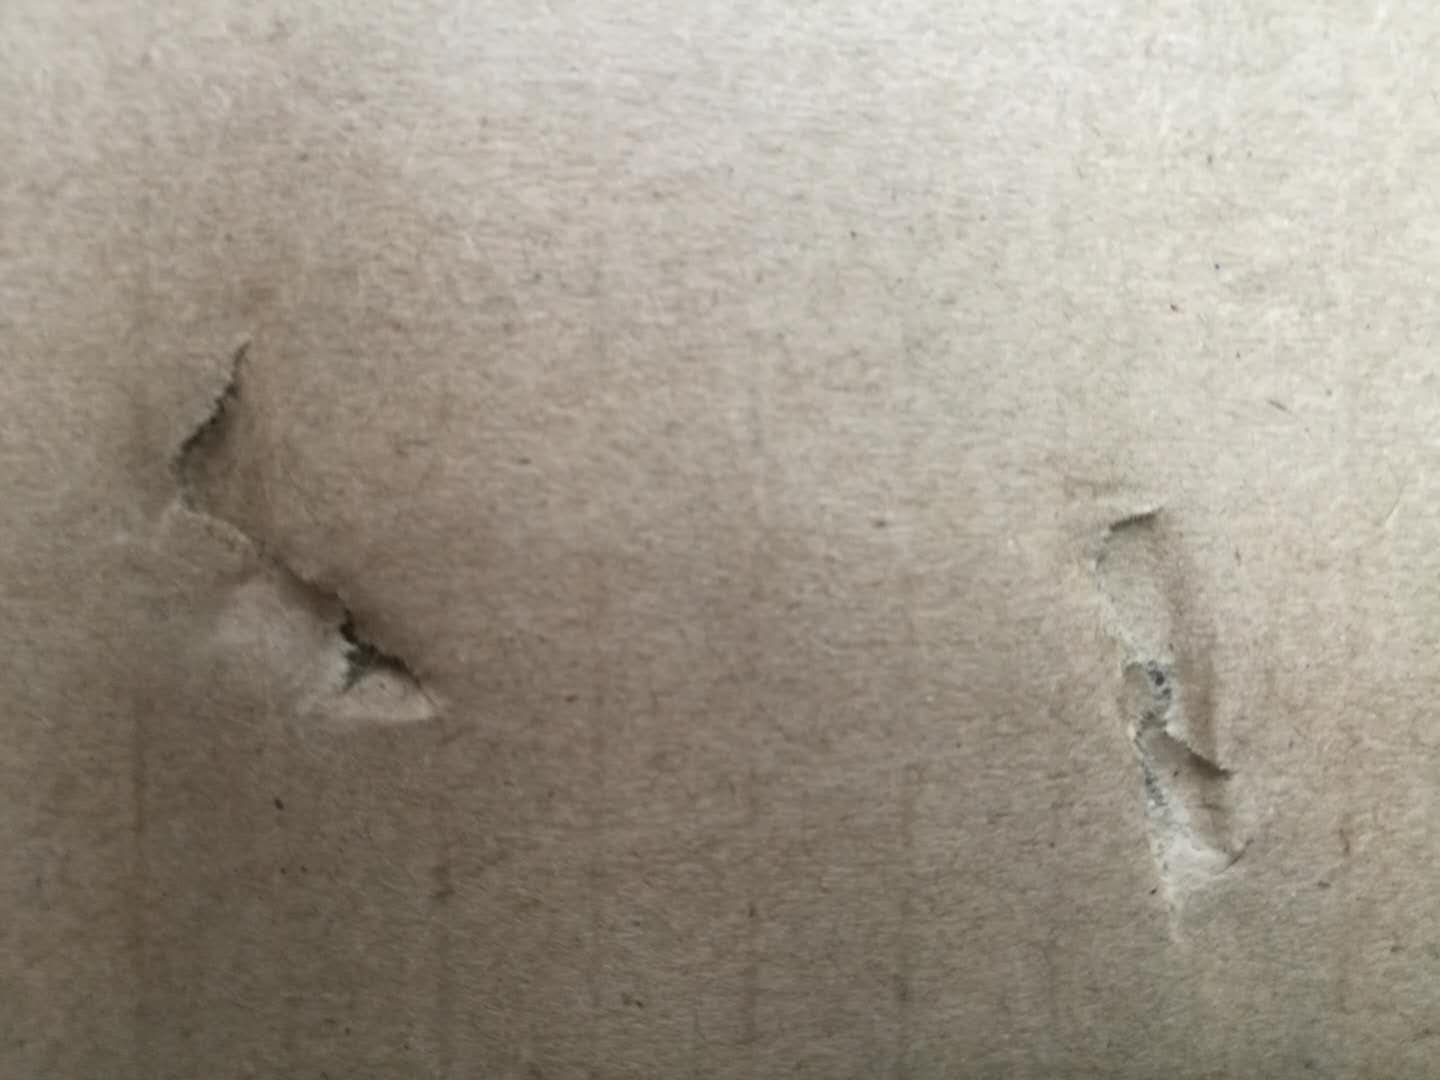defect: (73, 284, 478, 782), (1016, 458, 1308, 969)
